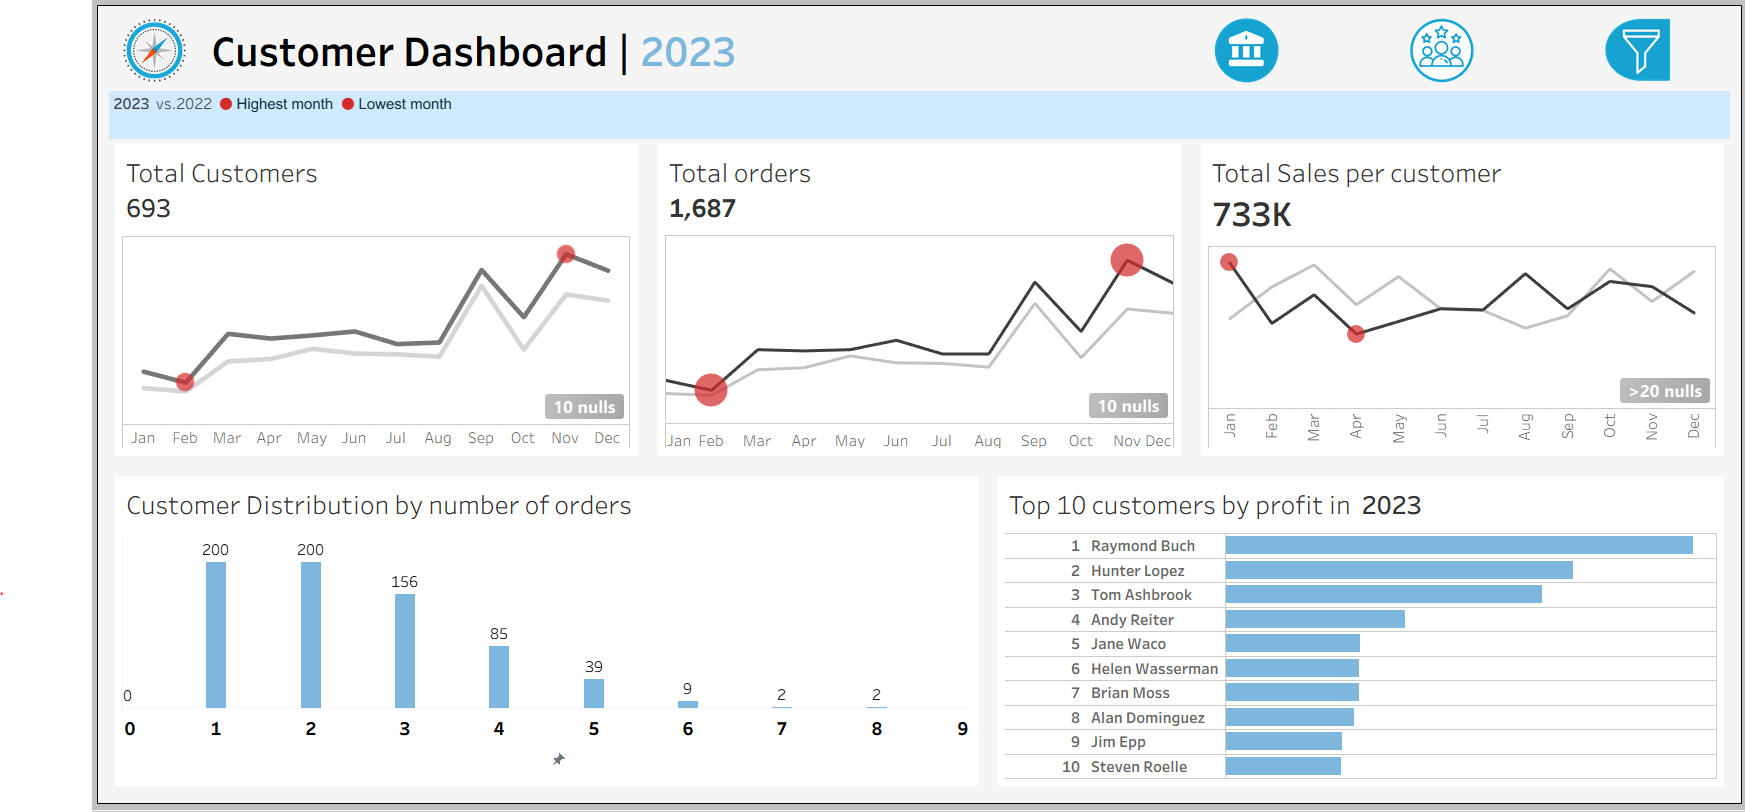

What the dashboard file says about the page in this screenshot:
{"tool":"tableau","page":{"name":"Customer Dashboard","canvas":[1000,1000],"units":"permille","ordinal":0},"visuals":[{"type":"image","param":"Image/Icon - Logo.png","box":[8.5,17.3,60.4,91.2]},{"type":"text","box":[69,17.3,576.3,91.2]},{"type":"dashboard-object","box":[645.3,17.3,115.4,91.2]},{"type":"dashboard-object","box":[760.7,17.3,115.4,91.2]},{"type":"dashboard-object","box":[876.1,17.3,115.4,91.2]},{"type":"blank","box":[643,79.5,143.2,36.3]},{"type":"worksheet","title":"Legend KPI","mark":"Automatic","box":[8.5,108.5,982.9,70.3]},{"type":"text","box":[643,115.8,143.2,35.2]},{"type":"parameter","param":"[Parameters].[Parameter 1]","box":[643,151.1,143.2,83.6]},{"type":"worksheet","title":"KPI customers","mark":"Line","rows":["Calculation_500181059384692738"],"cols":["Order Date"],"box":[8.6,178.8,327.8,397]},{"type":"worksheet","title":"KPI orders ","mark":"Line","rows":["Calculation_500181059438325771"],"cols":["Order Date"],"box":[336.4,178.8,327.8,397]},{"type":"worksheet","title":"Sales per customer ","mark":"Line","rows":["Calculation_500181059459567631"],"cols":["Order Date"],"box":[664.2,178.8,327.2,397]},{"type":"text","box":[643,234.7,143.2,32.2]},{"type":"filter","title":"KPI customers","param":"[federated.0frvgzx0eys0rh1dhm0pi0f6z8i7].[none:Category:nk]","box":[643,266.9,143.2,61.4]},{"type":"filter","title":"KPI customers","param":"[federated.0frvgzx0eys0rh1dhm0pi0f6z8i7].[none:Sub-Category:nk]","box":[643,328.3,143.2,61.4]},{"type":"text","box":[643,389.7,143.2,46.3]},{"type":"blank","box":[643,436.1,143.2,32.2]},{"type":"filter","title":"KPI customers","param":"[federated.0frvgzx0eys0rh1dhm0pi0f6z8i7].[none:City:nk]","box":[643,468.3,143.2,61.4]},{"type":"filter","title":"KPI customers","param":"[federated.0frvgzx0eys0rh1dhm0pi0f6z8i7].[none:Country/Region:nk]","box":[643,529.7,143.2,61.4]},{"type":"worksheet","title":"Customer Distribution","mark":"Bar","rows":["Calculation_1202179651694362628"],"cols":["Calculation_1202179651686645760"],"box":[8.5,575.8,539.1,406.9]},{"type":"worksheet","title":"Profit made by customer","mark":"Bar","rows":["Calculation_1202179651716415497","Customer Name"],"cols":["Calculation_744501332850692096"],"box":[547.6,575.8,443.9,406.9]},{"type":"text","box":[643,591.2,143.2,35.2]},{"type":"filter","title":"KPI customers","param":"[federated.0frvgzx0eys0rh1dhm0pi0f6z8i7].[mn:Order Date:ok]","box":[643,626.4,143.2,61.4]}]}

Visuals, with their boxes on the dashboard's canvas, which has no fixed pixel size, in thousandths of its width and height (x1, y1, x2, y2). These are canvas units, not pixel positions in the 1745x812 screenshot, which may show the page scaled, cropped or inside an application window:
image: detection(8, 17, 69, 108)
text: detection(69, 17, 645, 108)
dashboard-object: detection(645, 17, 761, 108)
dashboard-object: detection(761, 17, 876, 108)
dashboard-object: detection(876, 17, 992, 108)
blank: detection(643, 80, 786, 116)
"Legend KPI" worksheet: detection(8, 108, 991, 179)
text: detection(643, 116, 786, 151)
parameter: detection(643, 151, 786, 235)
"KPI customers" worksheet (Line marks): detection(9, 179, 336, 576)
"KPI orders " worksheet (Line marks): detection(336, 179, 664, 576)
"Sales per customer " worksheet (Line marks): detection(664, 179, 991, 576)
text: detection(643, 235, 786, 267)
"KPI customers" filter: detection(643, 267, 786, 328)
"KPI customers" filter: detection(643, 328, 786, 390)
text: detection(643, 390, 786, 436)
blank: detection(643, 436, 786, 468)
"KPI customers" filter: detection(643, 468, 786, 530)
"KPI customers" filter: detection(643, 530, 786, 591)
"Customer Distribution" worksheet (Bar marks): detection(8, 576, 548, 983)
"Profit made by customer" worksheet (Bar marks): detection(548, 576, 992, 983)
text: detection(643, 591, 786, 626)
"KPI customers" filter: detection(643, 626, 786, 688)
